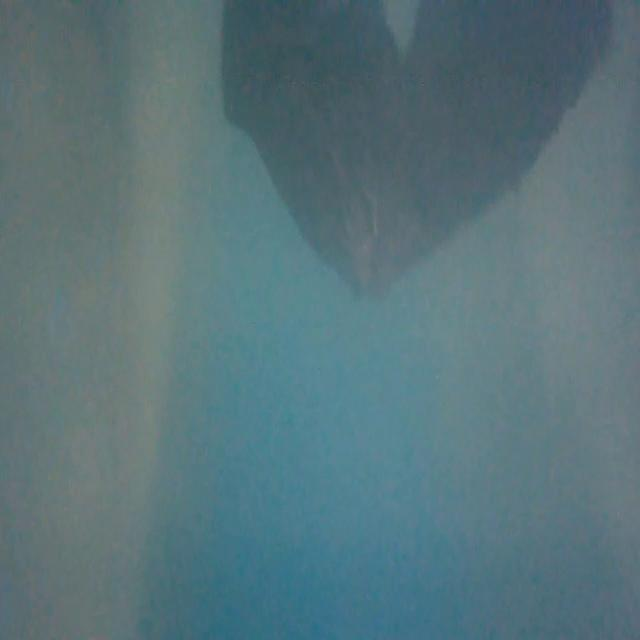plastic bags: (211, 0, 616, 301)
